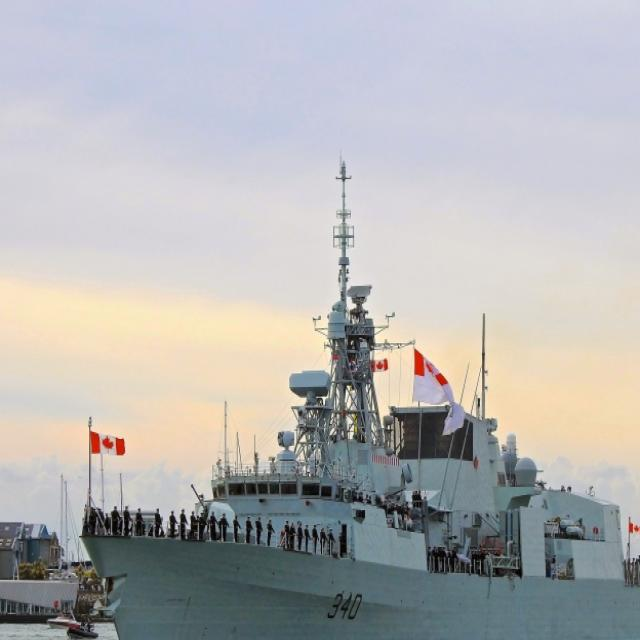Fragata: (87, 153, 640, 640)
